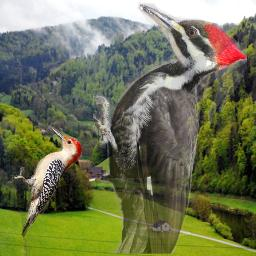Woodpecker: (93, 0, 247, 254), (10, 127, 84, 237)
